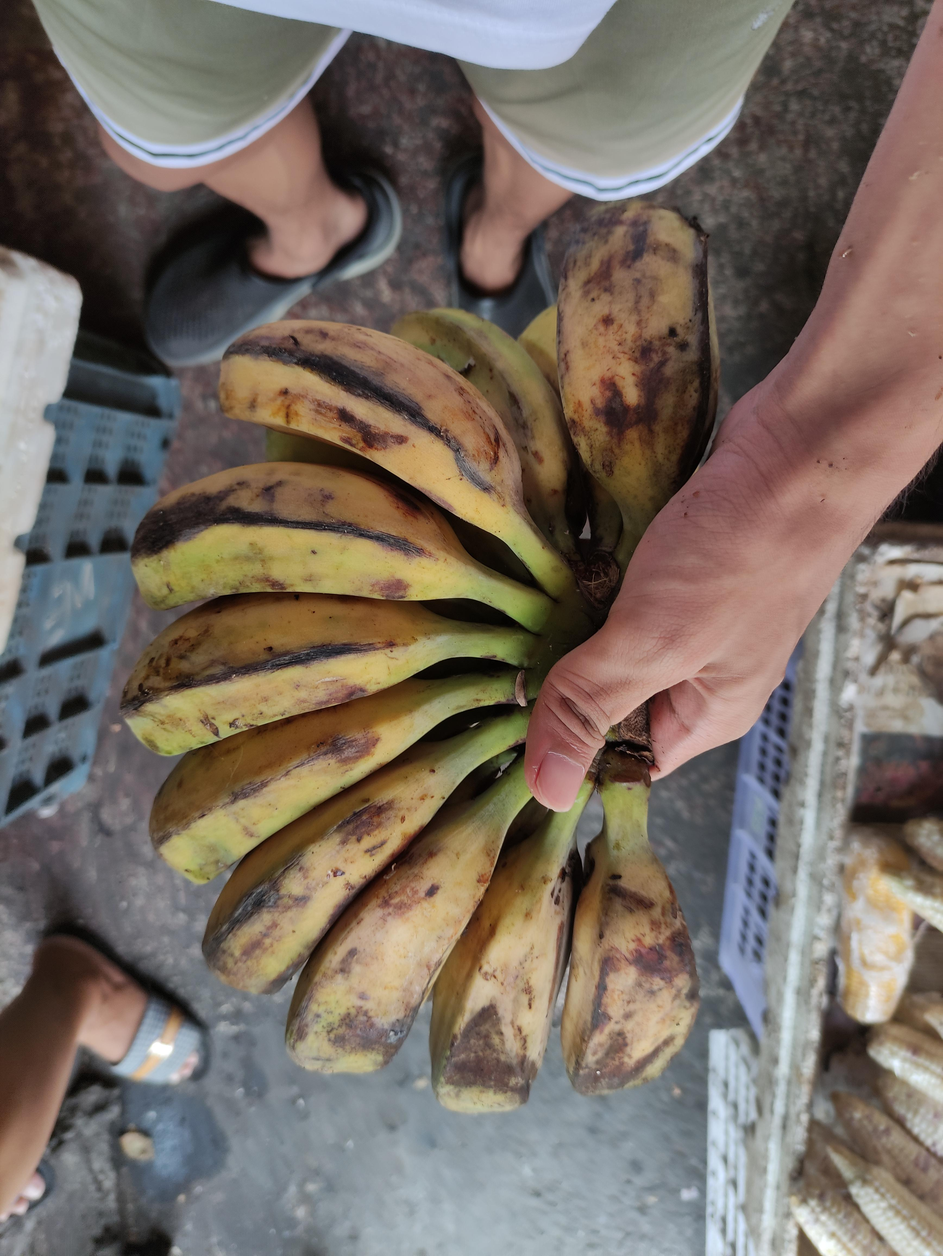ripe: (122, 206, 717, 1111)
